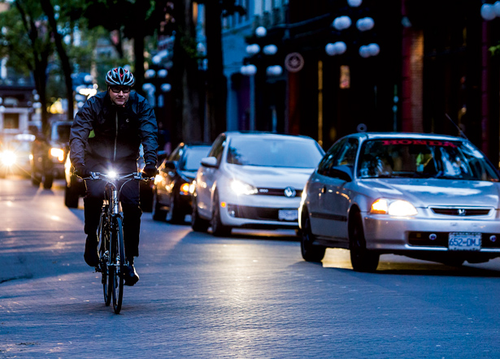bikerider: (46, 57, 176, 328)
